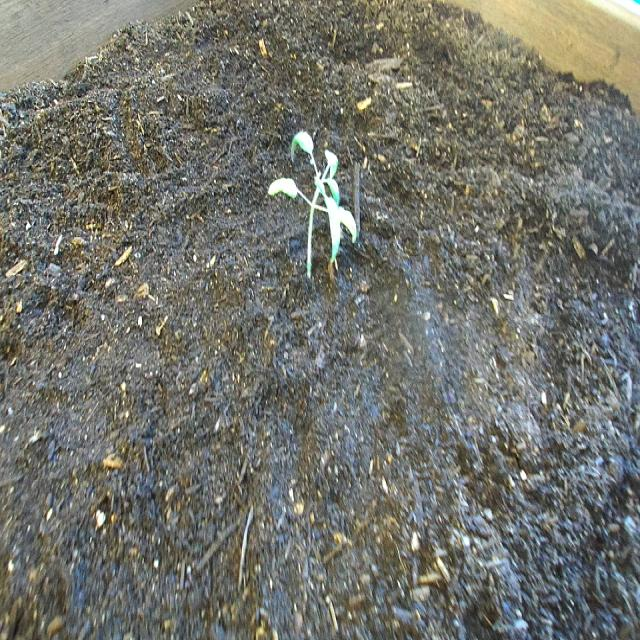Healthy: (262, 118, 364, 292)
